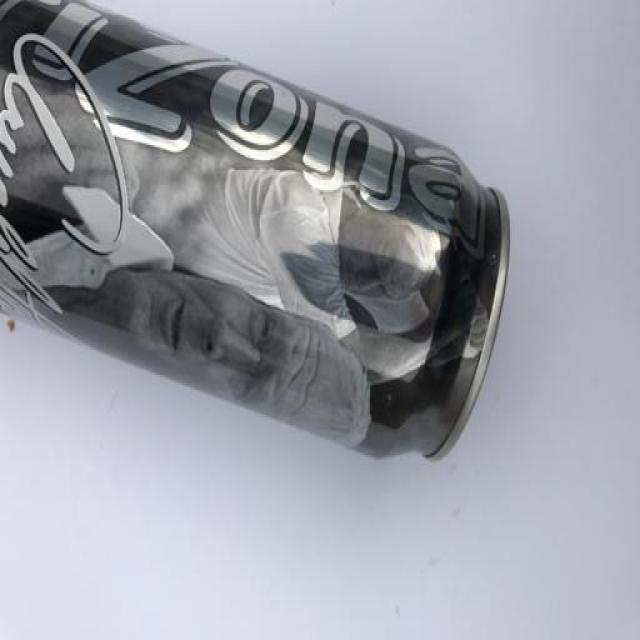metel: (5, 4, 527, 493)
